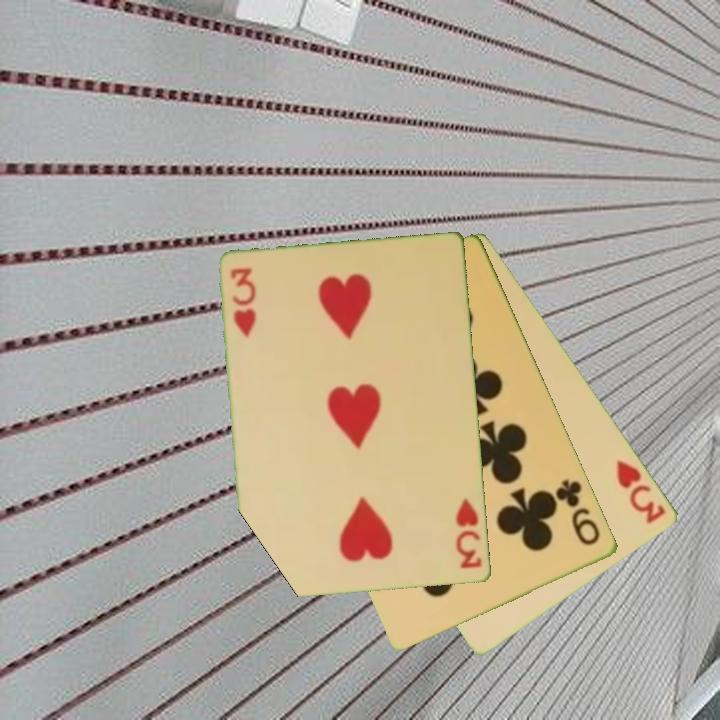3h: (613, 456, 669, 527), (453, 494, 485, 572), (227, 264, 259, 341)
9c: (552, 476, 604, 549)
